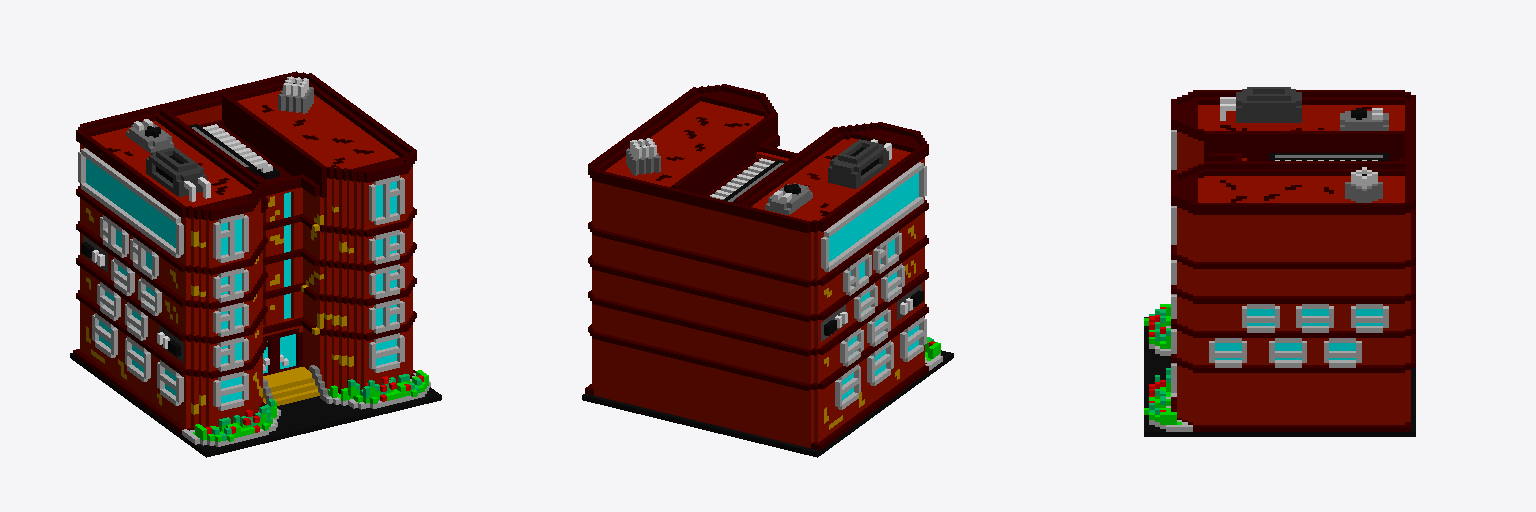
The picture shows the model from 3 angles: view 1: azimuth 30°, elevation 25°; view 2: azimuth 150°, elevation 25°; view 3: azimuth 270°, elevation 25°; orthographic projection.
Parts seen in each view (by area): view 1: object 1; view 2: object 1; view 3: object 1.
Boxes of the visible parts, <box> form: object 1: <box>70,71,441,457</box>; object 1: <box>582,84,953,457</box>; object 1: <box>1144,87,1415,436</box>.
Size of the model in its own units: 5 by 5 by 5.
Materials: 1 (1 with a texture image).